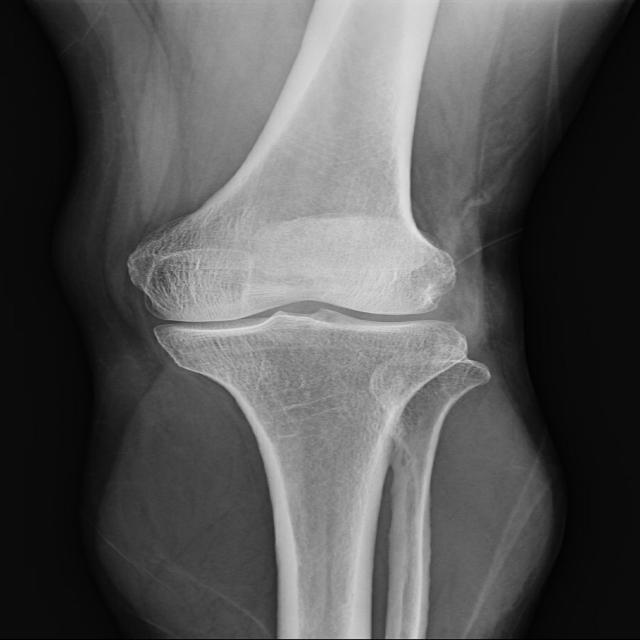osteo: (114, 235, 468, 357)
